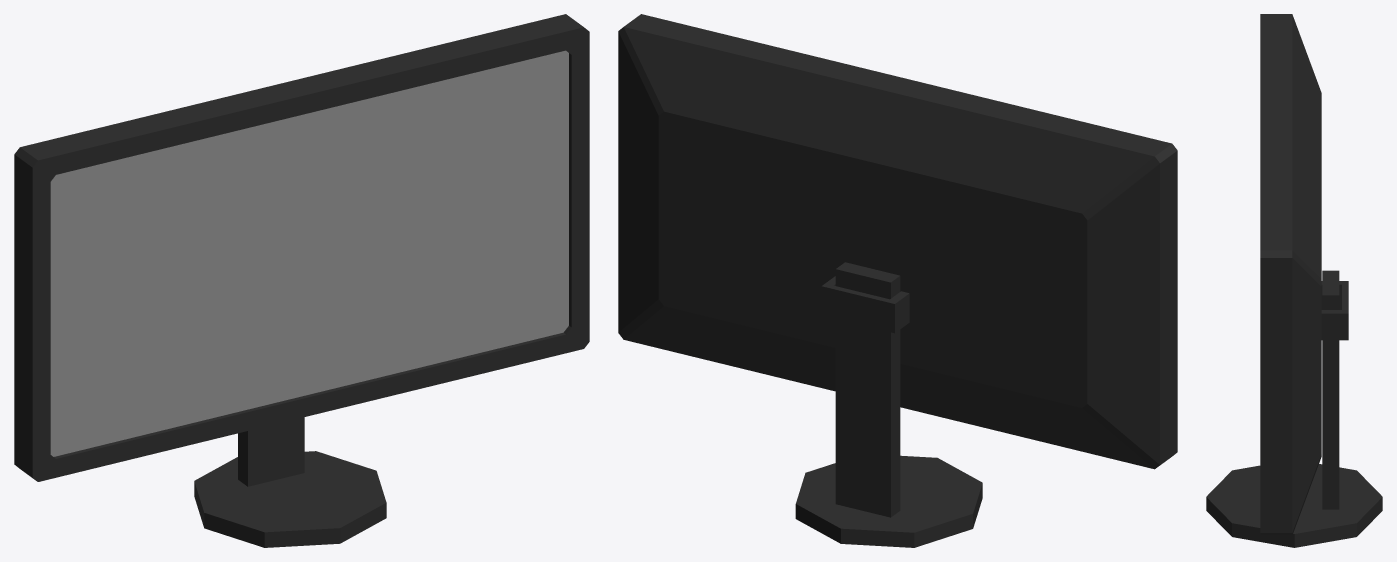
Rendered from SCHERMO PC.FBX.
3 views of the same model, side by side, from view 1: azimuth 30°, elevation 25°; view 2: azimuth 150°, elevation 25°; view 3: azimuth 270°, elevation 25° (orthographic). The views are drawn at different scales.
Visible parts, largest first — view 1: schermo pc; view 2: schermo pc; view 3: schermo pc.
Boxes of the visible parts, <box> form: schermo pc: <box>14,14,589,547</box>; schermo pc: <box>618,14,1177,547</box>; schermo pc: <box>1206,14,1382,547</box>.
Size of the model in its own units: 0.5817 by 0.4263 by 0.18.
Materials: 2 (1 with a texture image).
